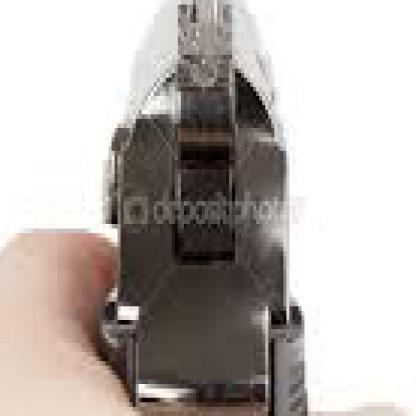gun: (93, 0, 326, 412)
